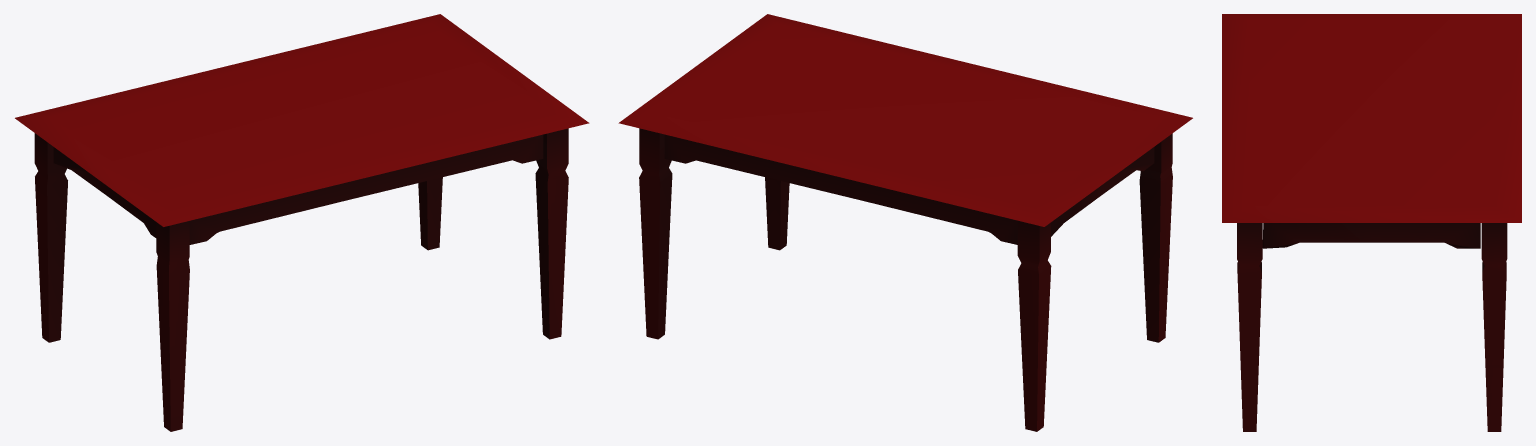
Rendered from TraditionalWoodTable001.glb.
3 renders of one model, left to right at view 1: azimuth 30°, elevation 25°; view 2: azimuth 150°, elevation 25°; view 3: azimuth 270°, elevation 25°, orthographic.
Parts seen in each view (by area): view 1: TraditionalWoodTable001; view 2: TraditionalWoodTable001; view 3: TraditionalWoodTable001.
Part boxes in pixels (x1,y1,x2,y2): TraditionalWoodTable001: [15, 14, 589, 431]; TraditionalWoodTable001: [618, 14, 1192, 431]; TraditionalWoodTable001: [1222, 14, 1521, 431].
Bounding box in the file's own units: 5.52 × 2.75 × 3.35.
